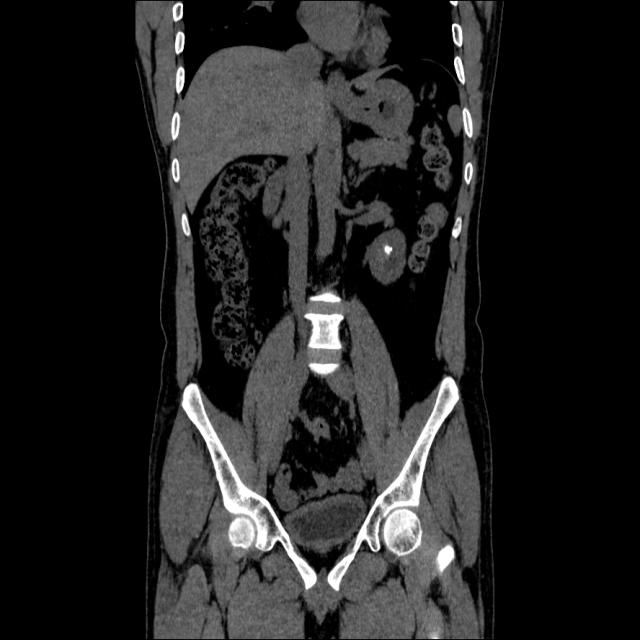kidneystone: (384, 245, 392, 254)
